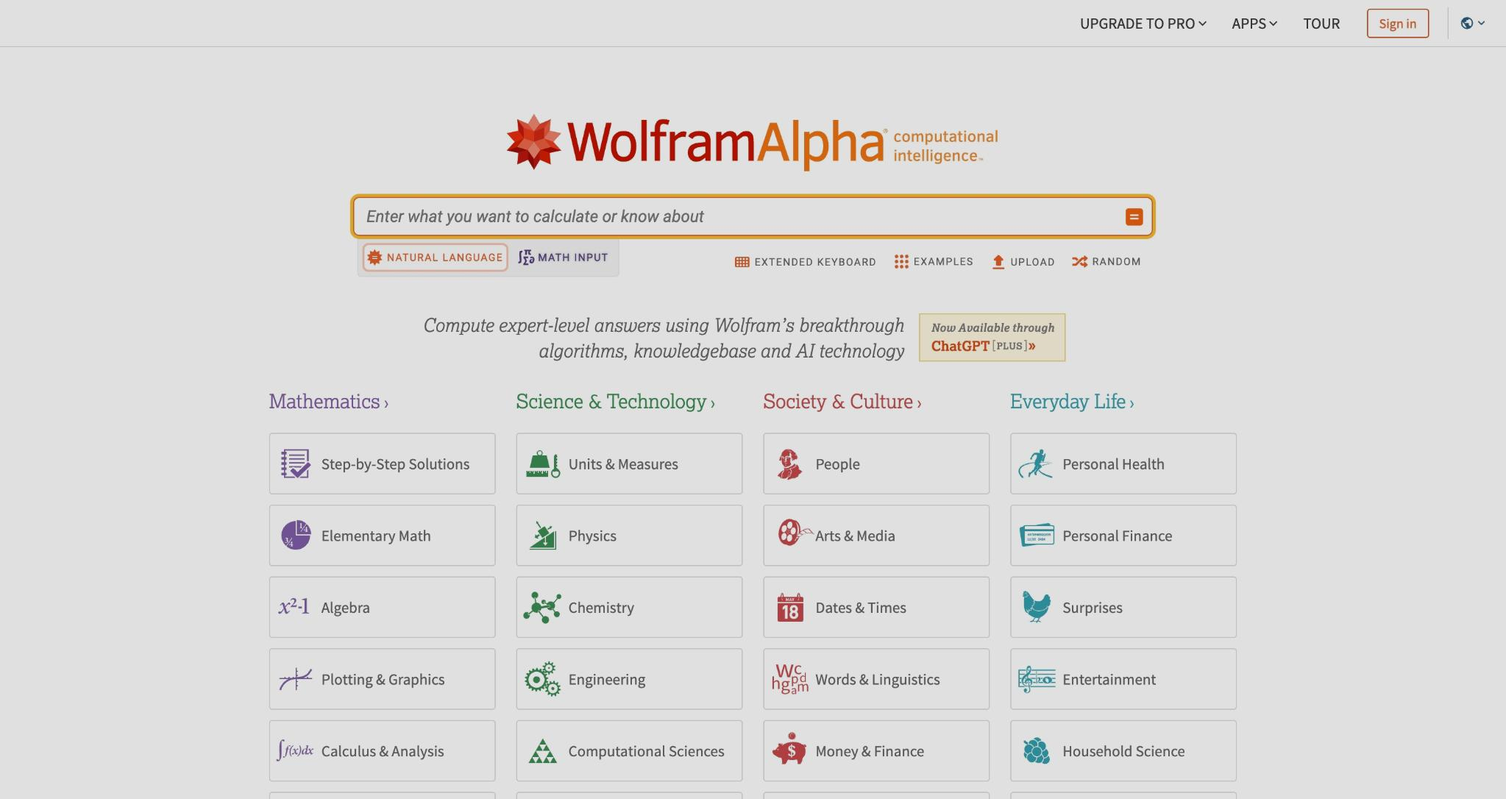webelement: (504, 67, 1002, 195), (361, 196, 1118, 235), (504, 113, 1002, 170), (419, 311, 903, 362), (763, 432, 990, 493), (763, 504, 990, 565), (763, 576, 990, 637), (763, 648, 990, 709), (763, 719, 990, 780), (1010, 432, 1237, 493), (1010, 504, 1237, 565), (1010, 576, 1237, 637), (1010, 648, 1237, 709), (1010, 719, 1237, 780), (269, 432, 495, 493), (269, 504, 495, 565), (269, 576, 495, 637), (269, 648, 495, 709), (269, 719, 495, 780), (516, 432, 742, 493), (516, 504, 742, 565), (516, 576, 742, 637), (516, 648, 742, 709), (516, 719, 742, 780), (422, 312, 902, 335), (537, 338, 903, 361), (724, 241, 883, 284), (920, 314, 1065, 360), (366, 206, 703, 225), (358, 238, 508, 275), (763, 387, 990, 411), (1010, 387, 1237, 411), (269, 387, 495, 411), (516, 387, 742, 411), (1071, 4, 1216, 40), (884, 240, 981, 284), (509, 238, 614, 275), (1063, 240, 1149, 284), (981, 241, 1063, 284), (568, 739, 724, 759), (321, 452, 469, 472), (269, 387, 380, 411), (321, 739, 444, 759), (1063, 739, 1184, 759), (815, 668, 940, 687), (321, 668, 444, 687), (1224, 4, 1288, 40), (568, 452, 678, 472), (1079, 13, 1194, 32), (816, 739, 924, 759), (321, 525, 431, 544), (1063, 525, 1172, 544), (1063, 452, 1165, 472), (1295, 4, 1348, 40), (1367, 7, 1429, 37), (763, 791, 990, 799), (1010, 791, 1237, 799), (269, 791, 495, 799), (516, 791, 742, 799), (1063, 668, 1156, 687), (815, 596, 906, 615), (816, 525, 895, 544), (754, 256, 876, 268), (569, 668, 645, 687), (387, 251, 502, 263), (568, 596, 634, 615), (1062, 596, 1123, 615), (322, 596, 370, 615), (568, 525, 616, 544), (816, 452, 859, 472), (1456, 11, 1491, 35), (538, 251, 608, 263), (1303, 13, 1340, 32), (913, 255, 973, 266), (1379, 14, 1417, 31), (1232, 13, 1265, 32), (1010, 256, 1055, 268), (1093, 255, 1141, 266), (515, 247, 535, 267), (1125, 206, 1144, 226)
